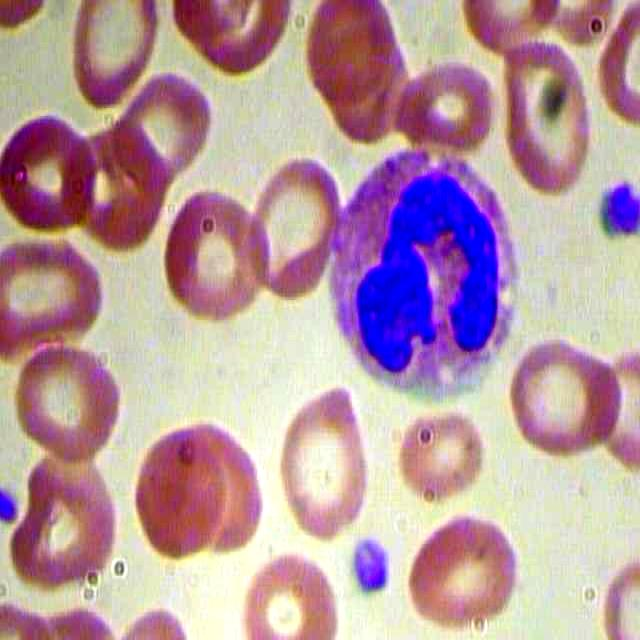Platelets: (589, 172, 640, 259), (349, 528, 394, 599)
RBC: (242, 151, 348, 312), (496, 39, 599, 200), (7, 444, 119, 589), (502, 322, 620, 458), (159, 183, 270, 324), (111, 65, 228, 196), (1, 225, 111, 364), (11, 335, 125, 469), (275, 385, 370, 544), (128, 409, 224, 562), (401, 504, 520, 627), (1, 107, 98, 237), (388, 57, 499, 156), (300, 2, 397, 114), (69, 2, 163, 114), (392, 406, 488, 510), (237, 549, 342, 640)
WBC: (324, 143, 522, 404)
